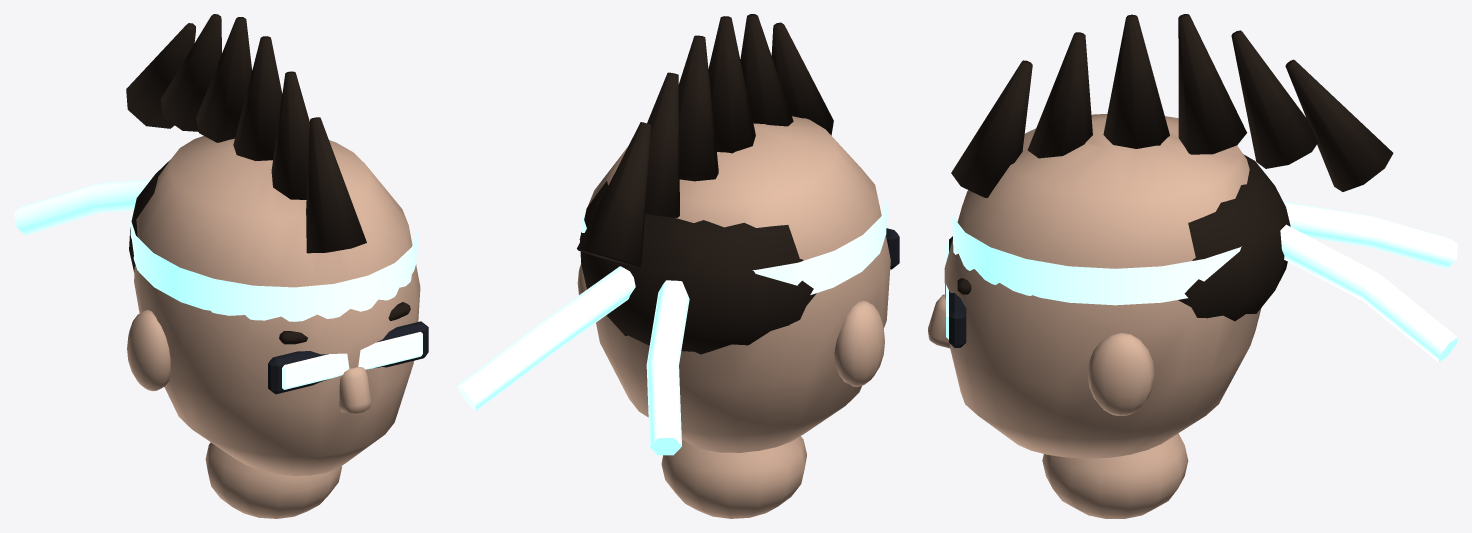
The model's file is coder_head_5.glb.
The picture shows the model from 3 angles, left to right: view 1: azimuth 30°, elevation 25°; view 2: azimuth 150°, elevation 25°; view 3: azimuth 270°, elevation 25°; orthographic projection. The views are drawn at different scales.
Parts seen in each view (by area): view 1: CoderPart; view 2: CoderPart; view 3: CoderPart.
Boxes of the visible parts, x1,y1,x2,y2 form: CoderPart: (14,14,428,518); CoderPart: (457,14,899,518); CoderPart: (928,14,1457,518).
Size of the model in its own units: 0.232 by 0.3744 by 0.3628.
